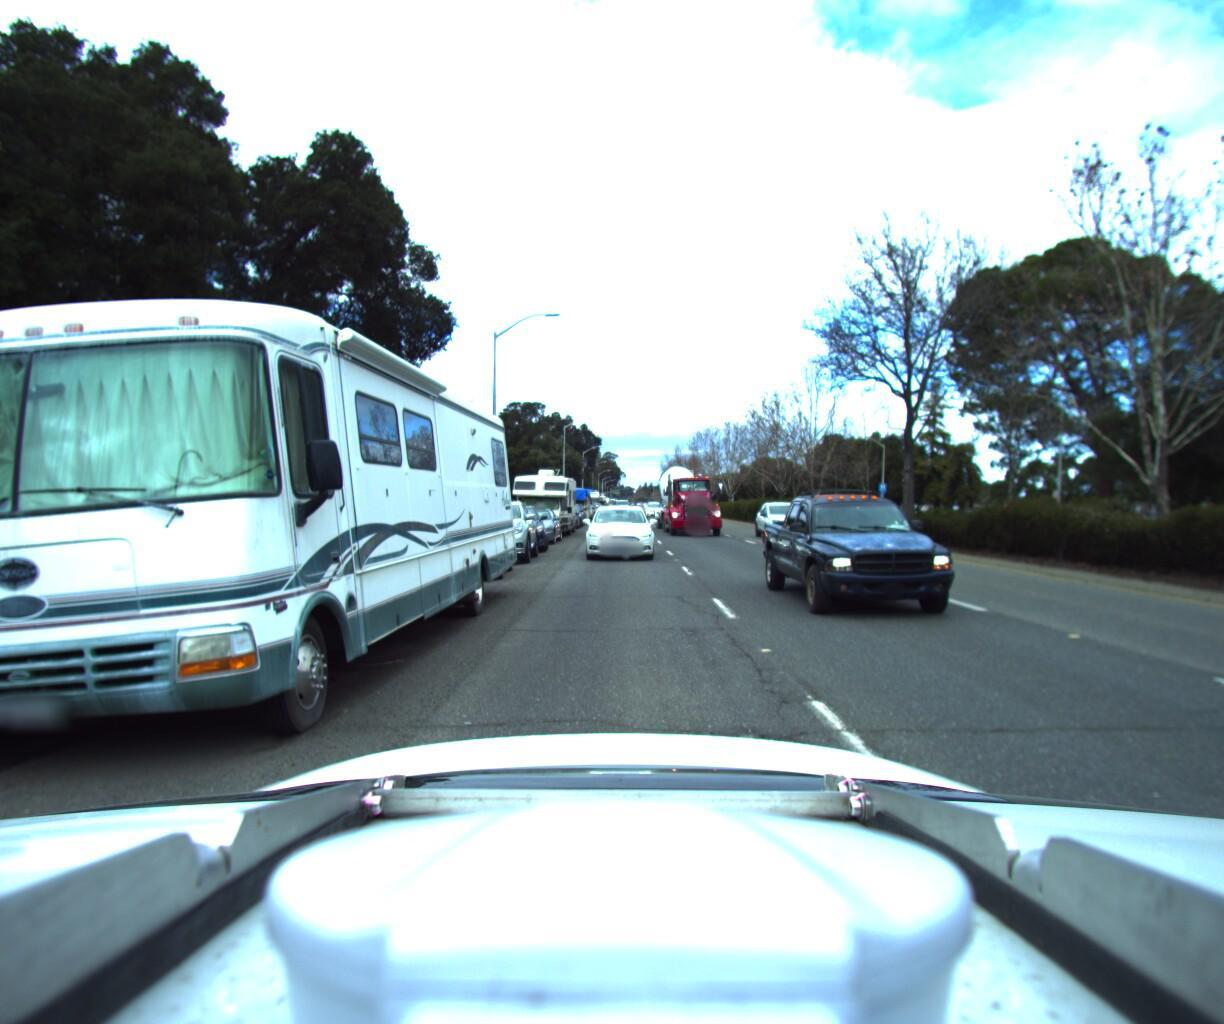car: (758, 473, 1012, 640), (446, 491, 539, 566), (578, 493, 655, 555), (486, 495, 542, 550), (758, 497, 820, 538), (504, 498, 561, 540)
other_vehicle: (504, 457, 575, 531), (554, 480, 589, 516)
truck: (656, 444, 728, 534)
